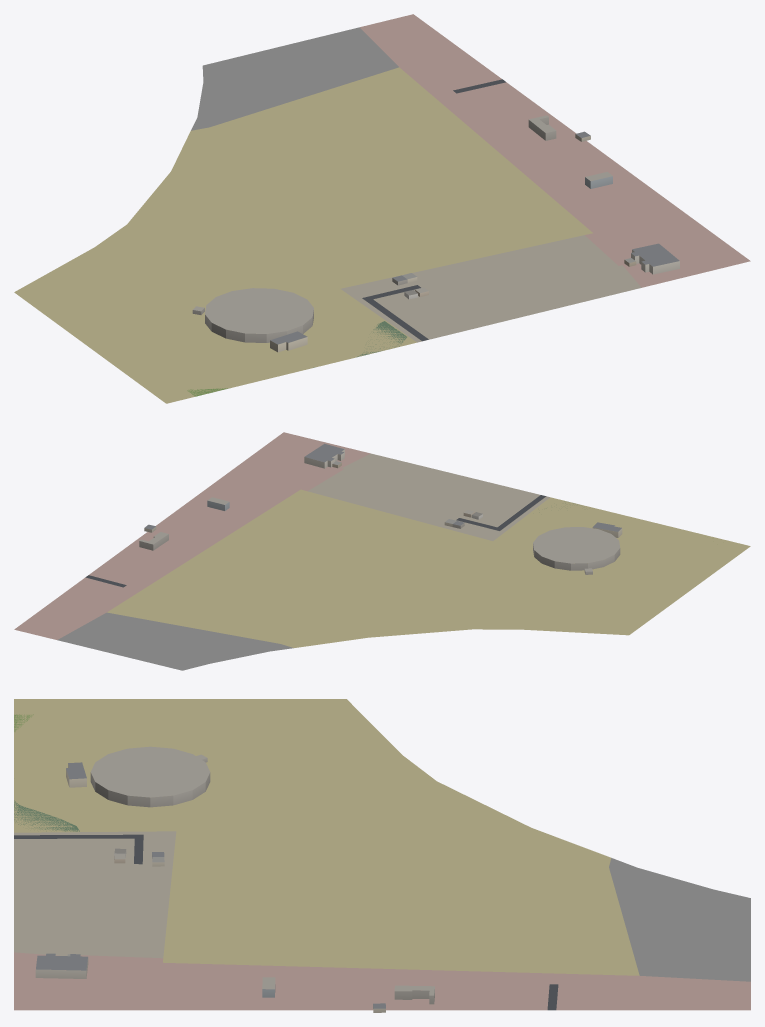
3 renders of one model, top to bottom at view 1: azimuth 30°, elevation 25°; view 2: azimuth 150°, elevation 25°; view 3: azimuth 270°, elevation 25°, orthographic. The views are drawn at different scales.
Parts seen in each view (by area): view 1: landuse, buildings_roofs, buildings_walls, roads; view 2: landuse, buildings_roofs, buildings_walls, roads; view 3: landuse, buildings_roofs, buildings_walls, roads.
Boxes of the visible parts, box(x1,y1,x2,y2) form: landuse: box(14, 14, 750, 403); buildings_roofs: box(193, 115, 679, 344); buildings_walls: box(192, 117, 679, 352); roads: box(362, 79, 505, 341); landuse: box(14, 432, 750, 670); buildings_roofs: box(139, 443, 621, 571); buildings_walls: box(139, 449, 622, 574); roads: box(85, 495, 546, 587); landuse: box(14, 699, 750, 1010); buildings_roofs: box(36, 746, 434, 1008); buildings_walls: box(35, 758, 434, 1012); roads: box(14, 834, 558, 1010).
Size of the model in its own units: 504 by 7.4 by 500.
